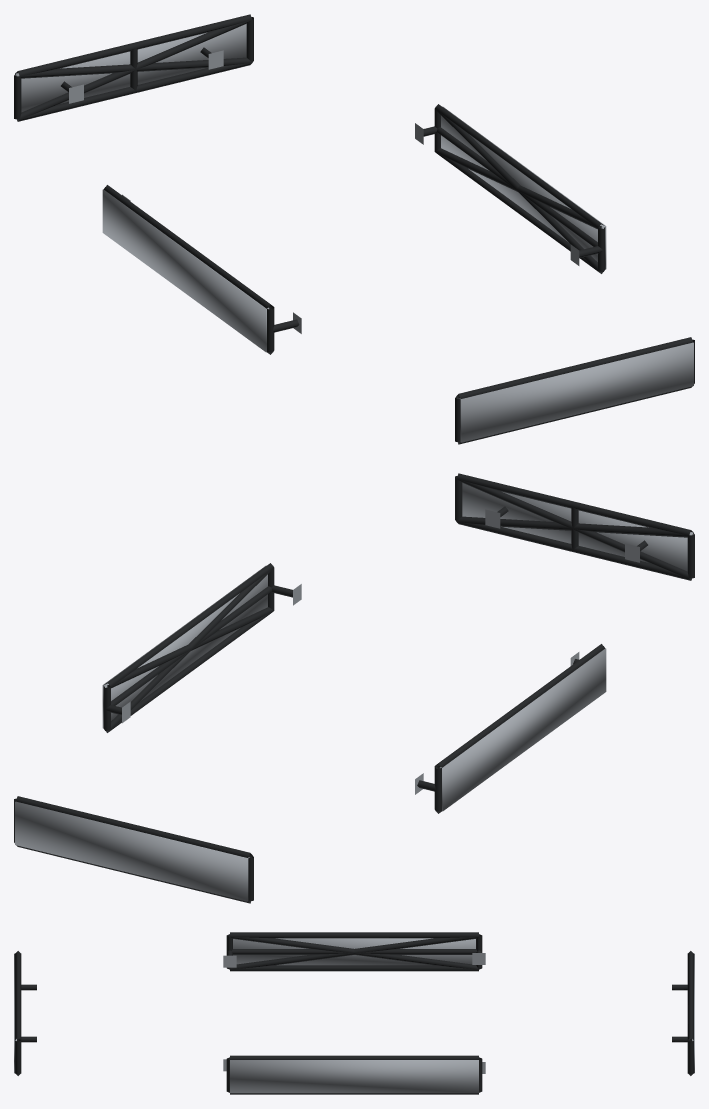
The model's file is bancroft_pedreira_protecao.glb.
3 renders of one model, top to bottom at view 1: azimuth 30°, elevation 25°; view 2: azimuth 150°, elevation 25°; view 3: azimuth 270°, elevation 25°, orthographic. The views are drawn at different scales.
Visible parts, largest first — view 1: Protection_front_Level3_Details, Protection_left_Level3_Details, Protection_rear_Level3_Details, Protection_rear_Level1_Details, Protection_right_Level1_Details, Protection_rear_Level2_Details, Protection_right_Level2_Details, Protection_right_Level3_Details, Protection_front_Level1_Details, Protection_left_Level1_Details; view 2: Protection_rear_Level3_Details, Protection_left_Level3_Details, Protection_front_Level3_Details, Protection_front_Level1_Details, Protection_right_Level1_Details, Protection_front_Level2_Details, Protection_right_Level2_Details, Protection_right_Level3_Details, Protection_rear_Level1_Details, Protection_left_Level1_Details; view 3: Protection_right_Level3_Details, Protection_left_Level2_Details, Protection_left_Level1_Details, Protection_left_Level3_Details, Protection_right_Level1_Details, Protection_rear_Level1_Details, Protection_front_Level1_Details.
Part boxes in pixels (box(x1,y1,x2,y2)): Protection_front_Level3_Details: box(459, 342, 693, 442); Protection_left_Level3_Details: box(102, 189, 269, 352); Protection_rear_Level3_Details: box(15, 24, 246, 112); Protection_rear_Level1_Details: box(14, 14, 253, 121); Protection_right_Level1_Details: box(415, 104, 605, 273); Protection_rear_Level2_Details: box(16, 20, 252, 120); Protection_right_Level2_Details: box(435, 109, 604, 273); Protection_right_Level3_Details: box(441, 106, 606, 269); Protection_front_Level1_Details: box(455, 337, 694, 444); Protection_left_Level1_Details: box(103, 185, 301, 354); Protection_rear_Level3_Details: box(15, 801, 249, 901); Protection_left_Level3_Details: box(439, 648, 606, 811); Protection_front_Level3_Details: box(462, 483, 693, 571); Protection_front_Level1_Details: box(455, 473, 694, 580); Protection_right_Level1_Details: box(103, 563, 301, 732); Protection_front_Level2_Details: box(456, 479, 692, 579); Protection_right_Level2_Details: box(104, 568, 273, 732); Protection_right_Level3_Details: box(102, 565, 267, 728); Protection_rear_Level1_Details: box(14, 796, 253, 903); Protection_left_Level1_Details: box(415, 644, 605, 813); Protection_right_Level3_Details: box(230, 1060, 478, 1093); Protection_left_Level2_Details: box(229, 935, 479, 969); Protection_left_Level1_Details: box(223, 932, 485, 971); Protection_left_Level3_Details: box(233, 938, 475, 965); Protection_right_Level1_Details: box(223, 1055, 485, 1094); Protection_rear_Level1_Details: box(672, 951, 693, 1075); Protection_front_Level1_Details: box(15, 951, 36, 1075).
Size of the model in its own units: 2.48 by 0.354 by 5.63.
Materials: 1 (1 with a texture image).
